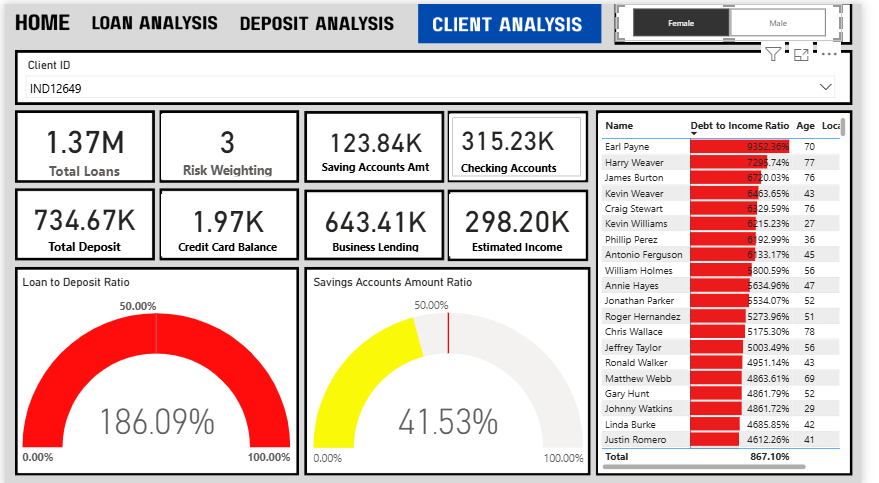

Layout of this report page (visuals, bound fields, positions):
{"tool":"powerbi","page":{"name":"Client Analysis","canvas":[1280,720],"ordinal":3},"visuals":[{"type":"card","fields":{"Values":["banking_case customer.Total Loans"]},"box":[23,163.9,195.1,98.4],"z":0},{"type":"card","fields":{"Values":["Sum(banking_case customer.Saving Accounts)"]},"box":[457.4,163.9,195.1,98.4],"z":1000},{"type":"cardVisual","fields":{"Data":["Sum(banking_case customer.Checking Accounts)"]},"box":[664.2,164.2,203,98.5],"z":2000},{"type":"slicer","fields":{"Values":["banking_case customer.Client ID"]},"box":[22.4,76.1,1228.4,65.7],"z":3000},{"type":"card","fields":{"Values":["banking_case customer.Total Deposit"]},"box":[23,283.6,195.1,91.8],"z":4000},{"type":"card","fields":{"Values":["Sum(banking_case customer.Credit Card Balance)"]},"box":[234.3,283.6,198.5,92.5],"z":5000},{"type":"card","fields":{"Values":["Sum(banking_case customer.Business Lending)"]},"box":[457.4,285.2,195.1,90.2],"z":6000},{"type":"card","fields":{"Values":["Sum(banking_case customer.Estimated Income)"]},"box":[664.2,283.6,203,92.5],"z":7000},{"type":"card","fields":{"Values":["Max(banking_case customer.Risk Weighting)"]},"box":[234.4,163.9,198.4,98.4],"z":8000},{"type":"gauge","fields":{"Y":["banking_case customer.Loan to Deposit Ratio"]},"box":[23,404.9,409.8,295.1],"z":9000},{"type":"tableEx","fields":{"Values":["banking_case customer.Name","banking_case customer.Debt to Income Ratio","banking_case customer.Age","banking_case customer.Location ID"]},"box":[886.9,163.9,375.4,536.1],"z":9001},{"type":"gauge","fields":{"Y":["banking_case customer.Savings Accounts Amount Ratio"]},"box":[457.4,404.9,413.1,295.1],"z":9002},{"type":"actionButton","box":[11.5,0,96.7,55.7],"z":9003},{"type":"actionButton","box":[120.9,0,197,55.2],"z":9004},{"type":"actionButton","box":[350.7,0,237.3,55.2],"z":9005},{"type":"actionButton","box":[616.4,0,270.1,55.2],"z":9006},{"type":"slicer","fields":{"Values":["banking_case customer.GenderId"]},"box":[913.4,0,337.3,55.2],"z":9007}]}

Visuals, with their boxes in screenshot pixels (x1, y1, x2, y2), scaled from the page's 1280x720 canvas onto the 879x483 screenshot:
card - banking_case customer.Total Loans: bbox=[16, 110, 150, 176]
card - Sum(banking_case customer.Saving Accounts): bbox=[314, 110, 448, 176]
cardVisual - Sum(banking_case customer.Checking Accounts): bbox=[456, 110, 596, 176]
slicer - banking_case customer.Client ID: bbox=[15, 51, 859, 95]
card - banking_case customer.Total Deposit: bbox=[16, 190, 150, 252]
card - Sum(banking_case customer.Credit Card Balance): bbox=[161, 190, 297, 252]
card - Sum(banking_case customer.Business Lending): bbox=[314, 191, 448, 252]
card - Sum(banking_case customer.Estimated Income): bbox=[456, 190, 596, 252]
card - Max(banking_case customer.Risk Weighting): bbox=[161, 110, 297, 176]
gauge - banking_case customer.Loan to Deposit Ratio: bbox=[16, 272, 297, 470]
tableEx - banking_case customer.Name x banking_case customer.Debt to Income Ratio: bbox=[609, 110, 867, 470]
gauge - banking_case customer.Savings Accounts Amount Ratio: bbox=[314, 272, 598, 470]
actionButton: bbox=[8, 0, 74, 37]
actionButton: bbox=[83, 0, 218, 37]
actionButton: bbox=[241, 0, 404, 37]
actionButton: bbox=[423, 0, 609, 37]
slicer - banking_case customer.GenderId: bbox=[627, 0, 859, 37]
